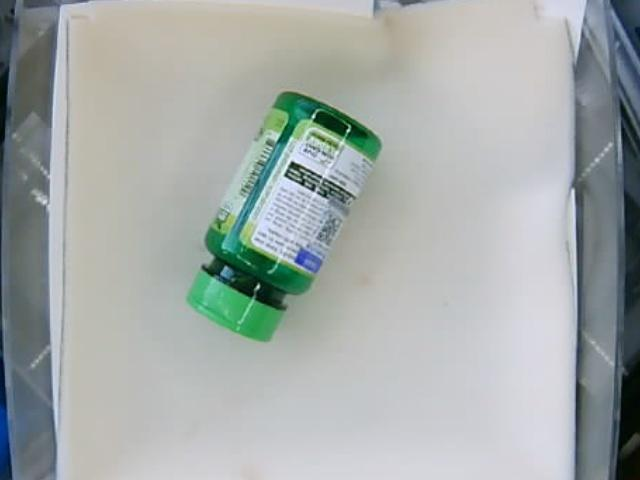Bottle: (185, 90, 382, 344)
